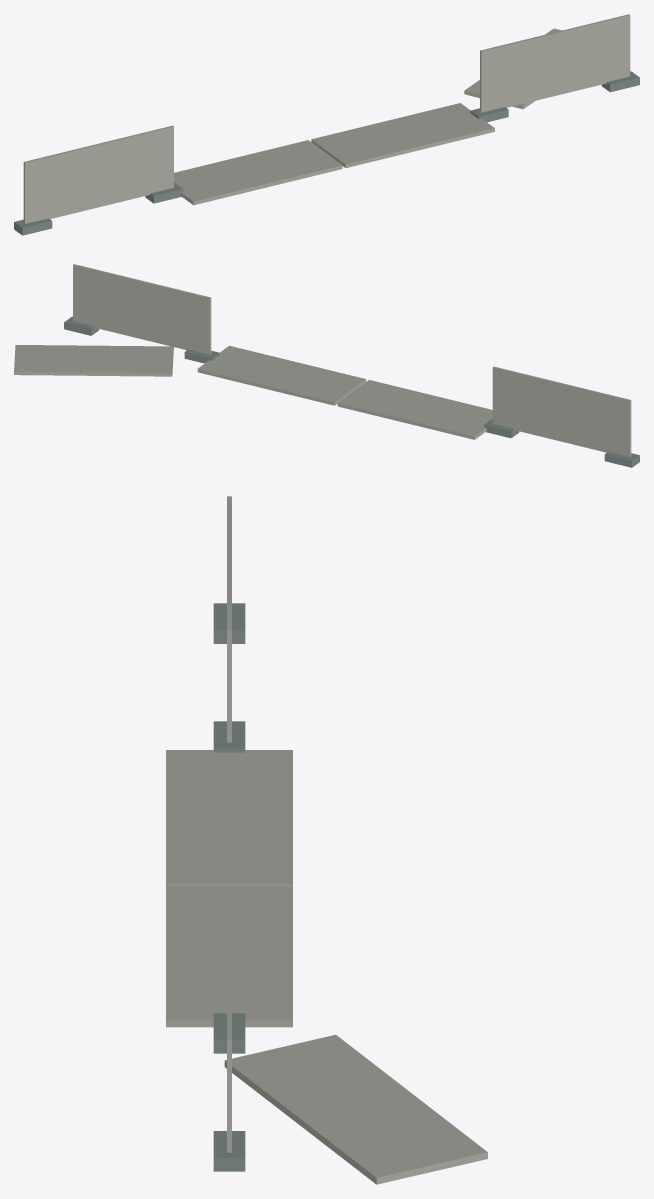
Rendered from SM_Vallas_v4_Caidas_LOD0.fbx.
3 views of the same model, one above another, from view 1: azimuth 30°, elevation 25°; view 2: azimuth 150°, elevation 25°; view 3: azimuth 270°, elevation 25° (orthographic). The views are drawn at different scales.
Visible parts, largest first — view 1: SM_ambiente_aerodromo_v24_LOD0; view 2: SM_ambiente_aerodromo_v24_LOD0; view 3: SM_ambiente_aerodromo_v24_LOD0.
Boxes of the visible parts, x1,y1,x2,y2 form: SM_ambiente_aerodromo_v24_LOD0: (14, 14, 639, 235); SM_ambiente_aerodromo_v24_LOD0: (14, 264, 639, 467); SM_ambiente_aerodromo_v24_LOD0: (166, 496, 487, 1184).
Bounding box in the file's own units: 10.64 × 1.1 × 2.54.
